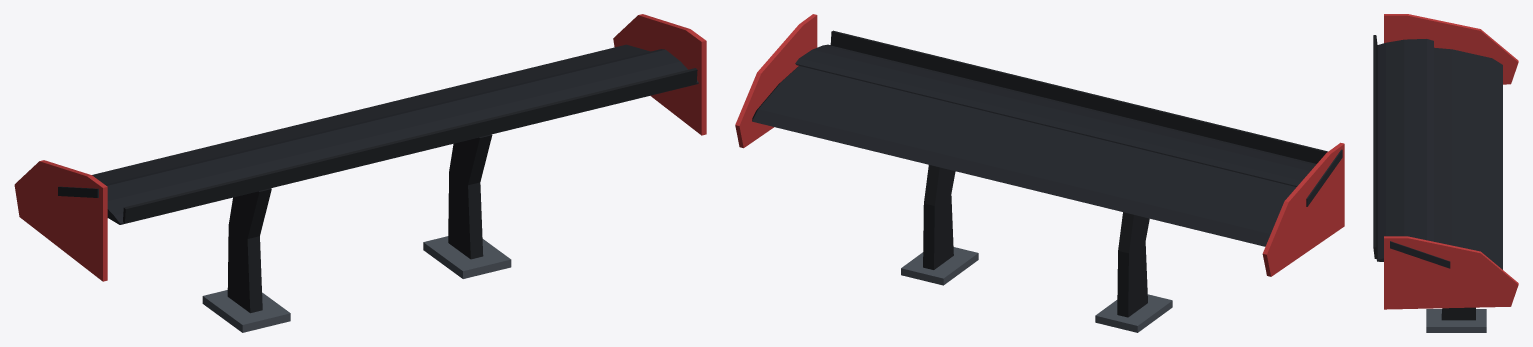
The model's file is spoiler_wing_high.glb.
3 views of the same model, side by side, from view 1: azimuth 30°, elevation 25°; view 2: azimuth 150°, elevation 25°; view 3: azimuth 270°, elevation 25° (orthographic). The views are drawn at different scales.
Visible parts, largest first — view 1: Body; view 2: Body; view 3: Body.
Boxes of the visible parts, x1,y1,x2,y2 form: Body: [14, 14, 706, 332]; Body: [735, 14, 1344, 332]; Body: [1373, 14, 1518, 332].
Size of the model in its own units: 1.76 by 0.572 by 0.4797.
